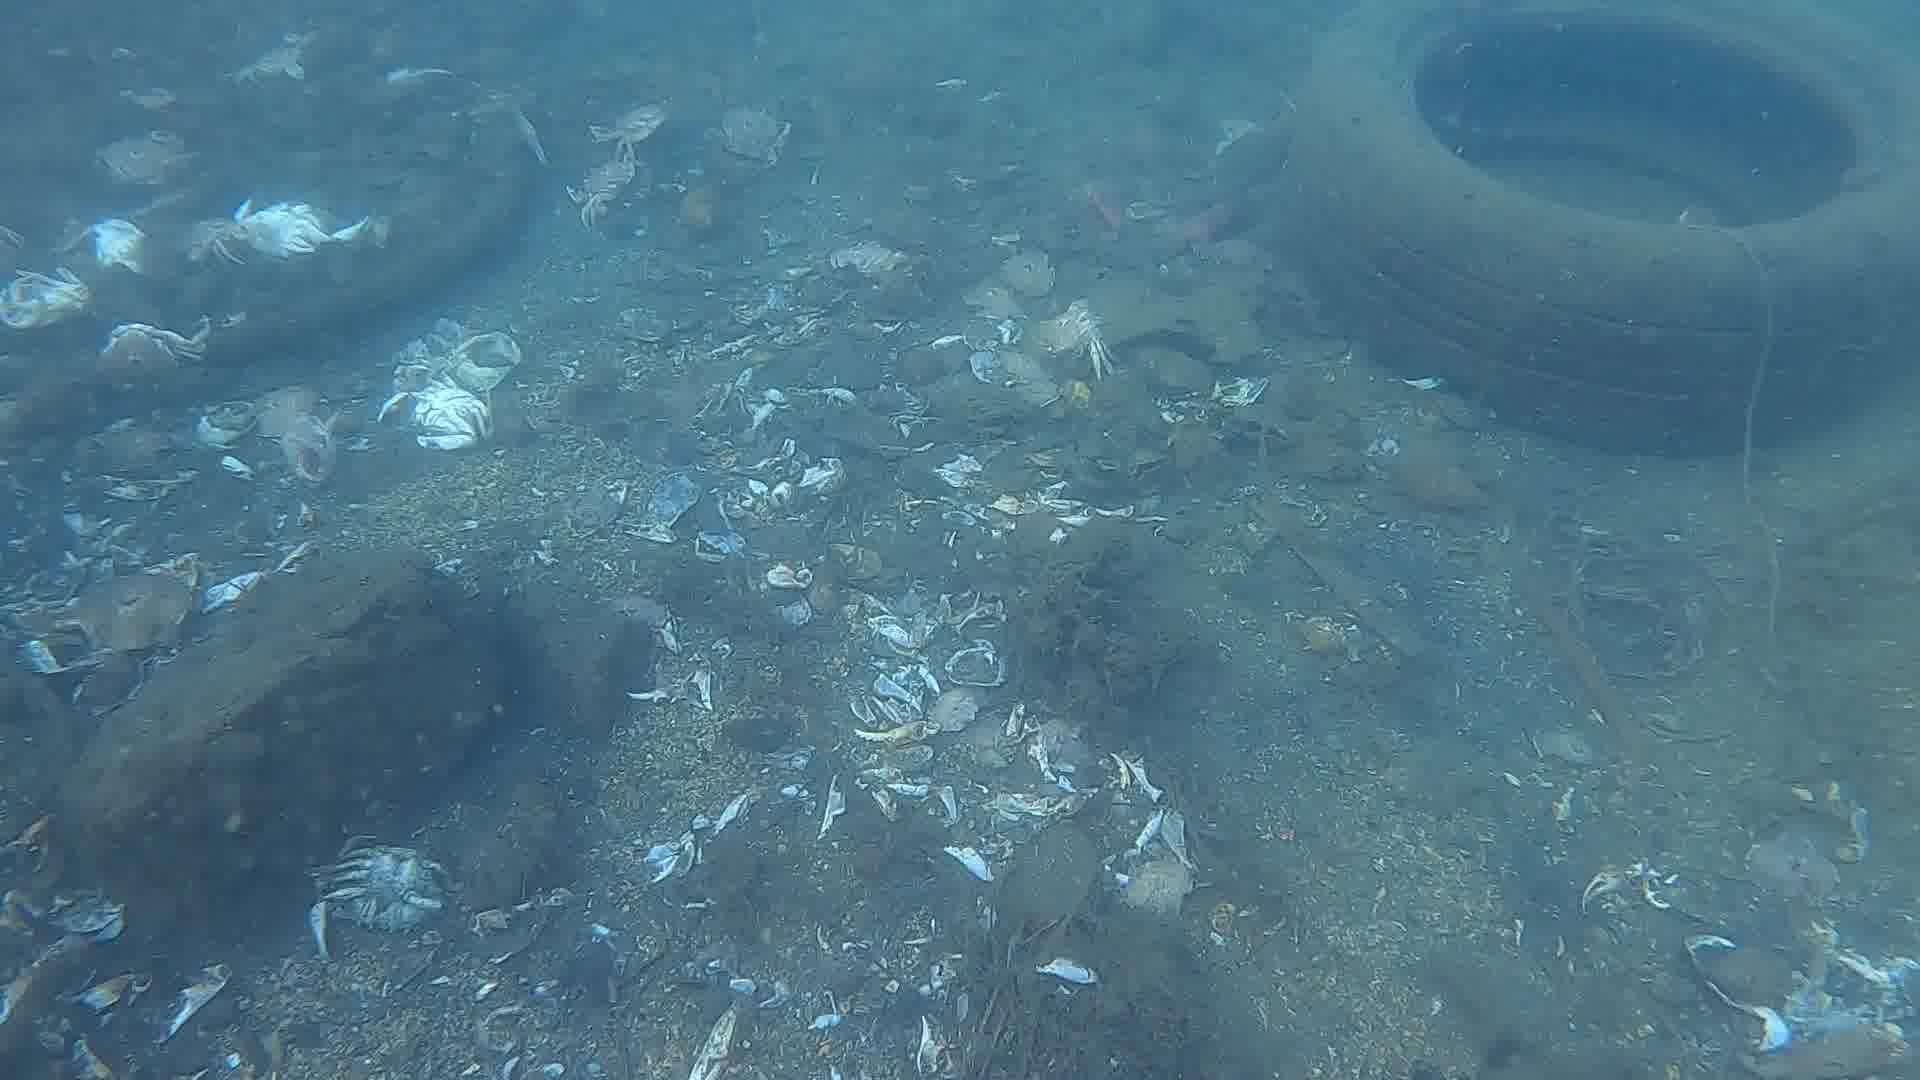tire: (1286, 0, 1920, 459)
